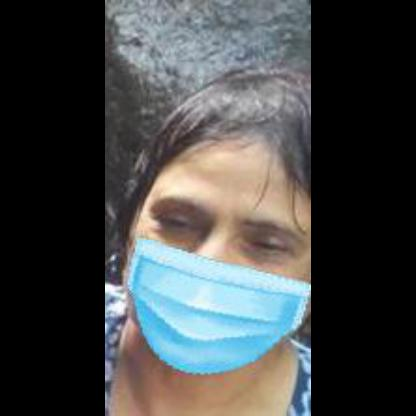Surgical Mask: (118, 160, 310, 370)
